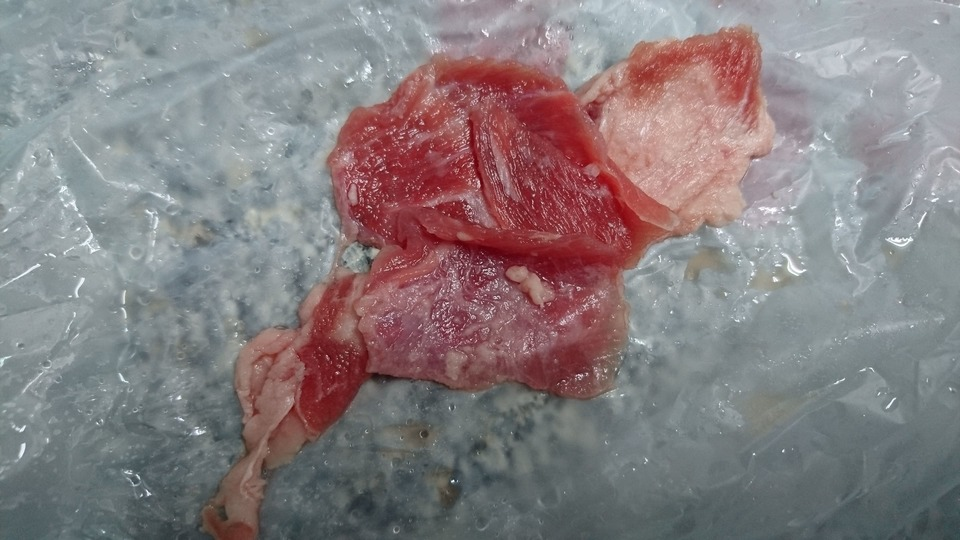restructured meat: (187, 30, 790, 540)
